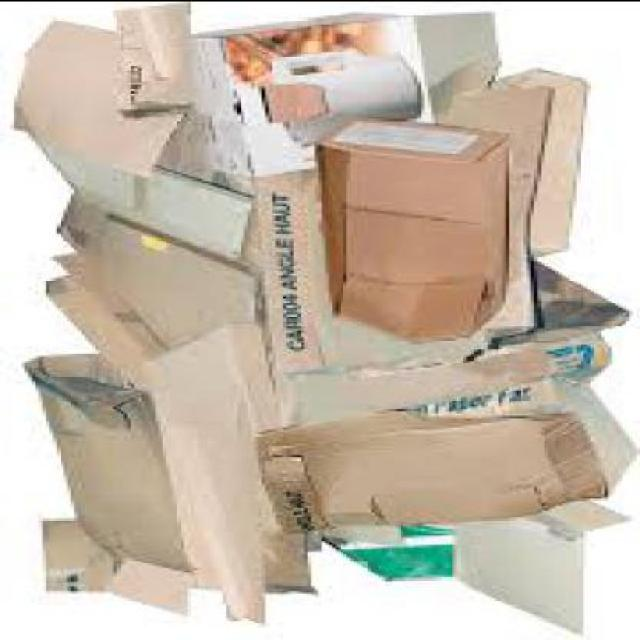CARDBOARD: (244, 55, 548, 372), (252, 371, 636, 543), (183, 11, 494, 178), (312, 118, 506, 342), (124, 327, 265, 624), (162, 324, 315, 594), (21, 357, 188, 571), (8, 21, 180, 188), (283, 334, 612, 421), (28, 153, 244, 270), (449, 502, 622, 636), (41, 278, 248, 382), (46, 193, 248, 289), (248, 171, 324, 395), (499, 69, 583, 257), (39, 520, 187, 615), (485, 258, 626, 348), (113, 2, 184, 113), (318, 525, 453, 583), (156, 118, 209, 187), (50, 253, 78, 275)
